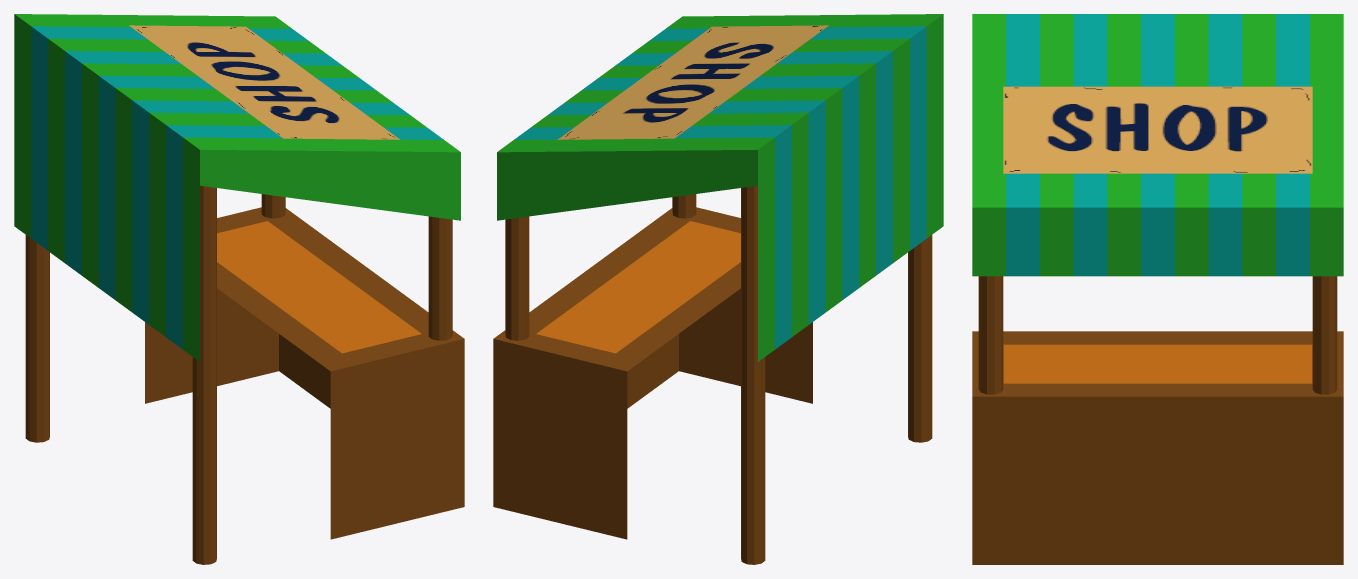
The model's file is shop.glb.
3 renders of one model, left to right at view 1: azimuth 30°, elevation 25°; view 2: azimuth 150°, elevation 25°; view 3: azimuth 270°, elevation 25°, orthographic.
Visible parts, largest first — view 1: Cylinder.002; view 2: Cylinder.002; view 3: Cylinder.002.
Boxes of the visible parts, x1=… form: Cylinder.002: x1=14, y1=14, x2=464, y2=564; Cylinder.002: x1=493, y1=14, x2=943, y2=564; Cylinder.002: x1=972, y1=14, x2=1343, y2=564.
Bounding box in the file's own units: 2.47 × 3.76 × 3.
Materials: 2 (2 with a texture image).
